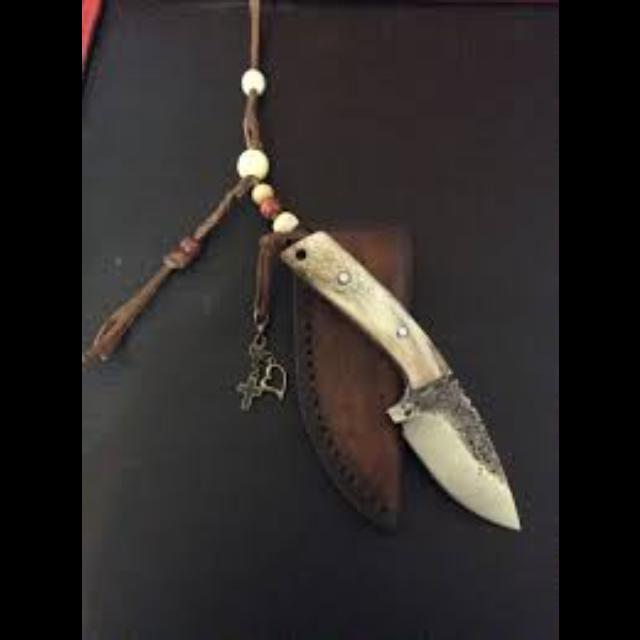Knife: (273, 219, 519, 531)
